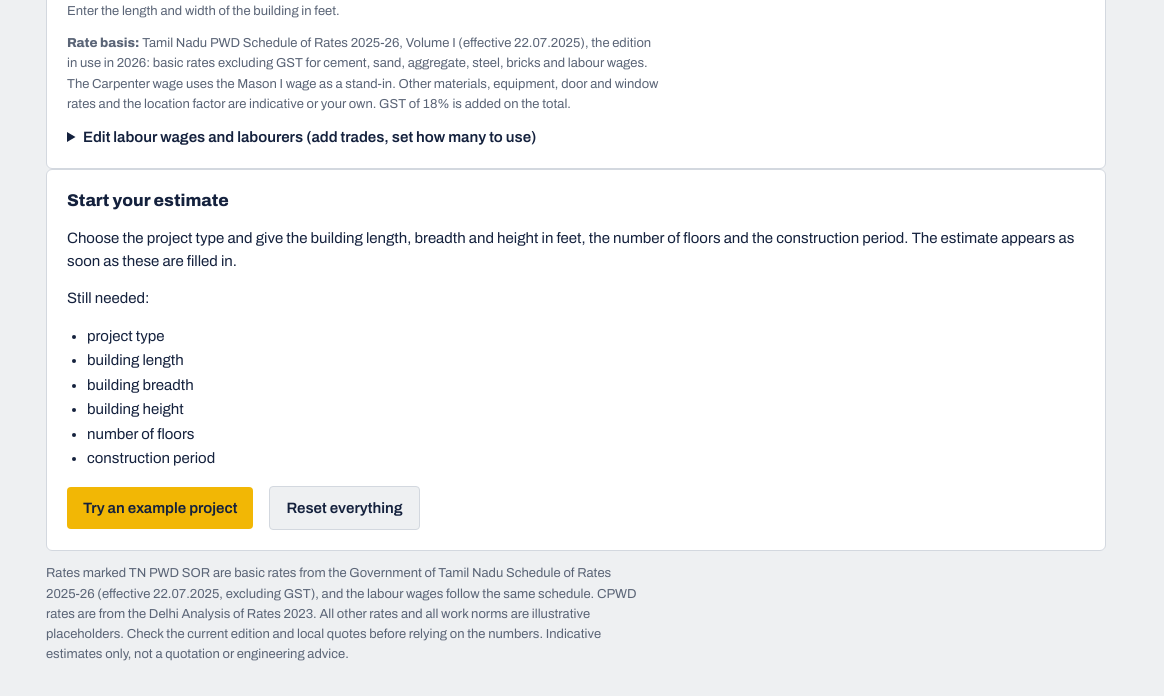
App › interior design: on for an office, off for a shed, editable, adds to the total
The image size is (1164, 696).
Later steps or results of the test are not shown.
(page scrolled)
Click the button "Try an example project" at [160, 508], box left=67, top=487, right=253, bottom=529
(page scrolled)
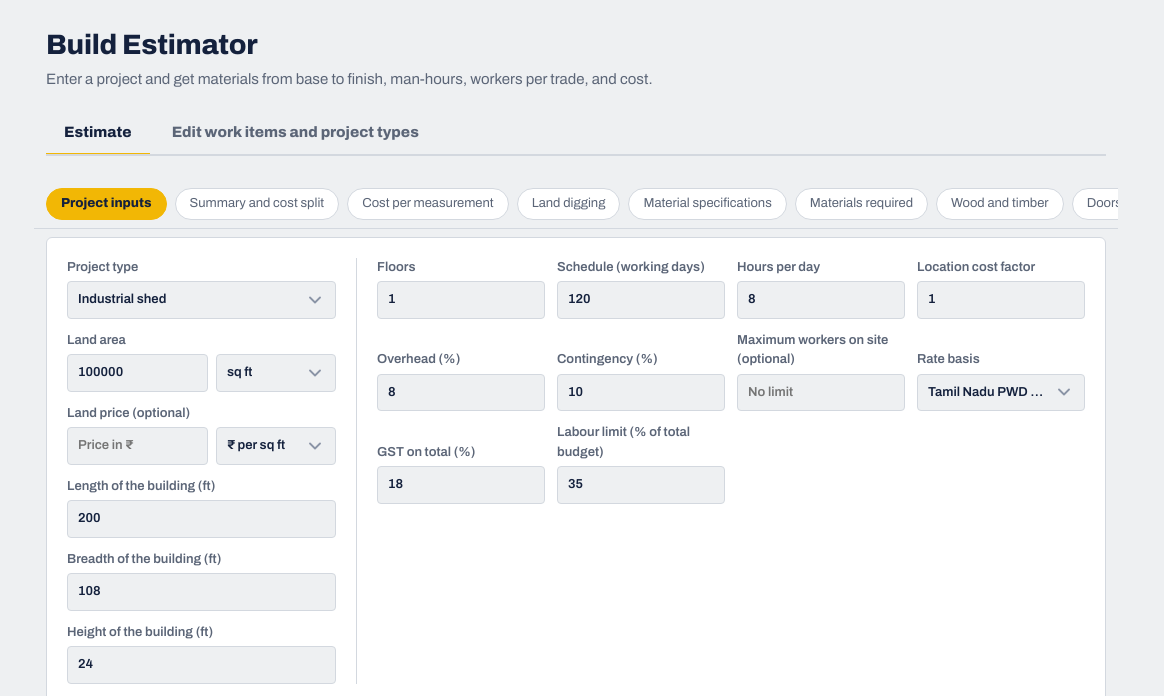
Select "Commercial or office building" in the dropdown with id "type" at [202, 300], box left=67, top=281, right=336, bottom=318
(page scrolled)
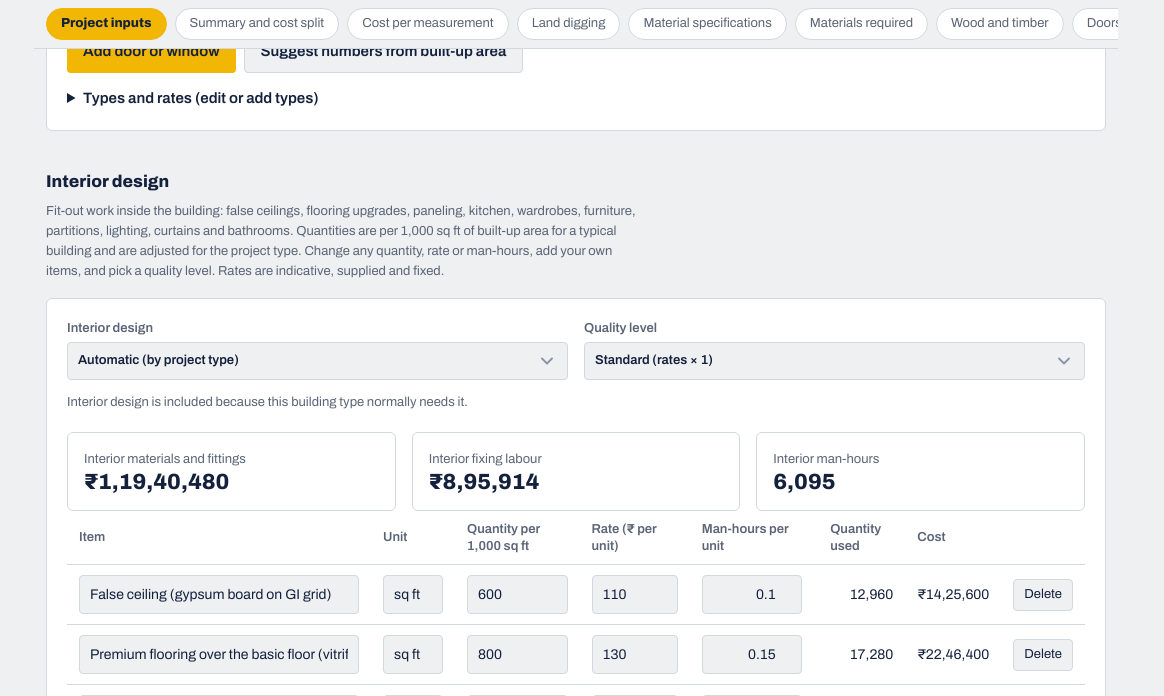
Expected: the text with id "intstatus" shows "included because", left=67, top=395, right=468, bottom=409
